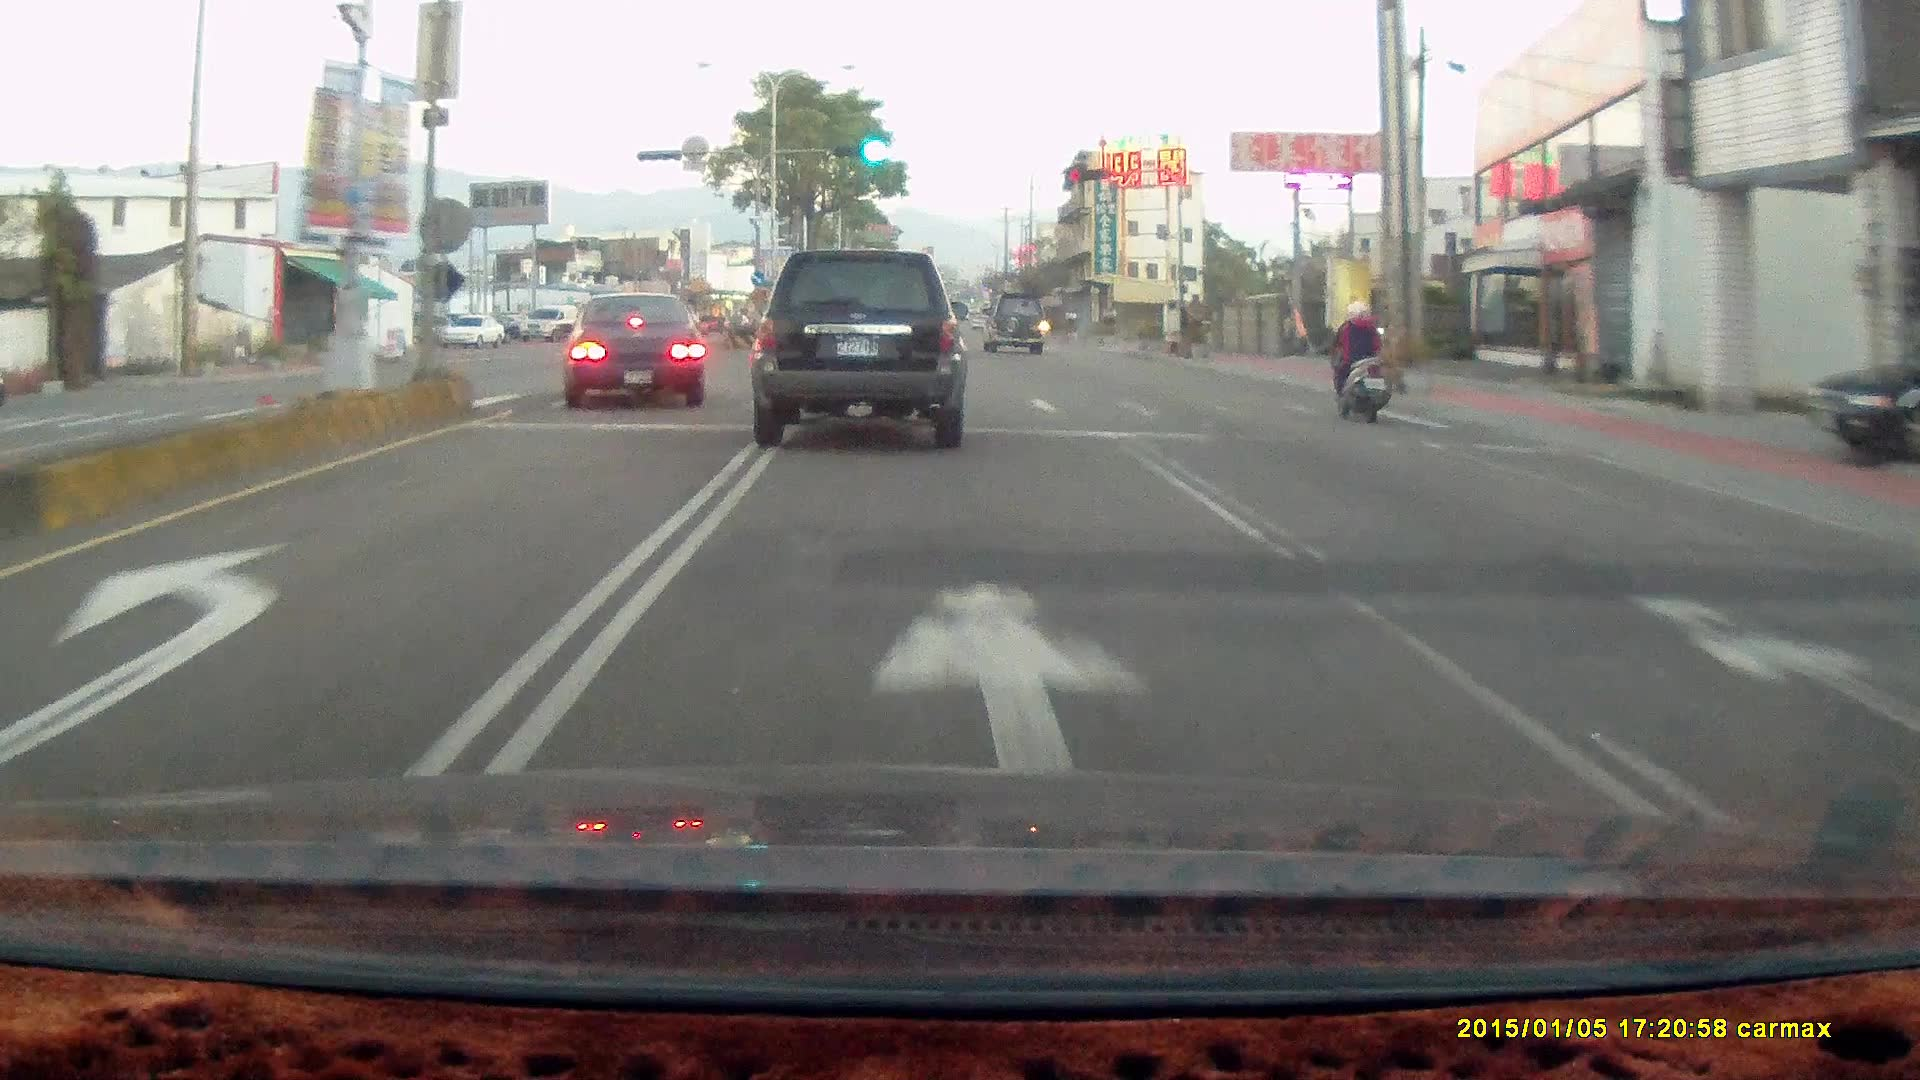rider: (1315, 286, 1405, 434), (1322, 297, 1390, 422)
vehicle: (745, 235, 972, 444), (745, 250, 966, 448), (559, 286, 712, 409), (554, 291, 705, 407), (1803, 333, 1920, 469), (1800, 332, 1919, 465), (979, 288, 1046, 353), (982, 290, 1051, 355), (436, 312, 505, 347), (519, 306, 583, 341)
